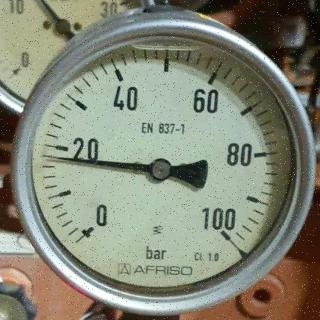gauge: (11, 17, 318, 319), (196, 204, 248, 256), (68, 201, 116, 251), (148, 156, 172, 184), (47, 152, 65, 166)
